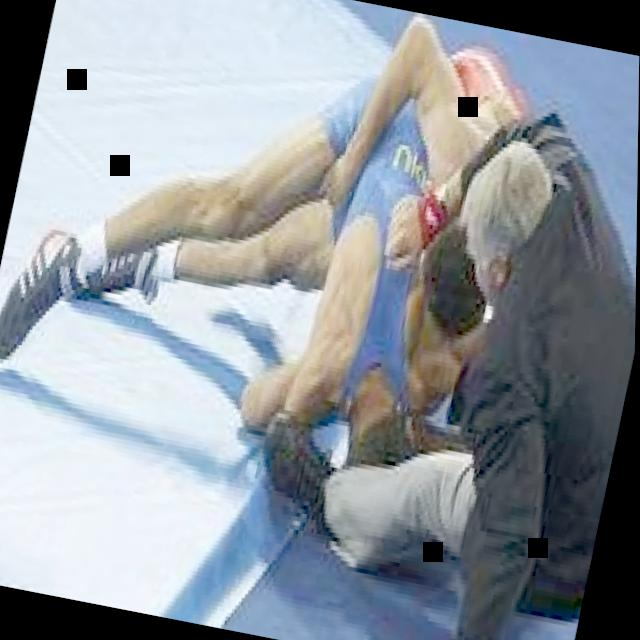Fall-Detected: (314, 79, 639, 640)
